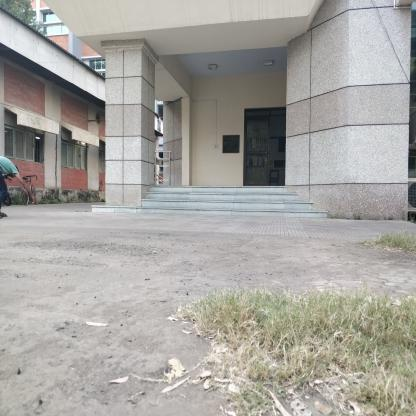stairs: (154, 185, 286, 220)
